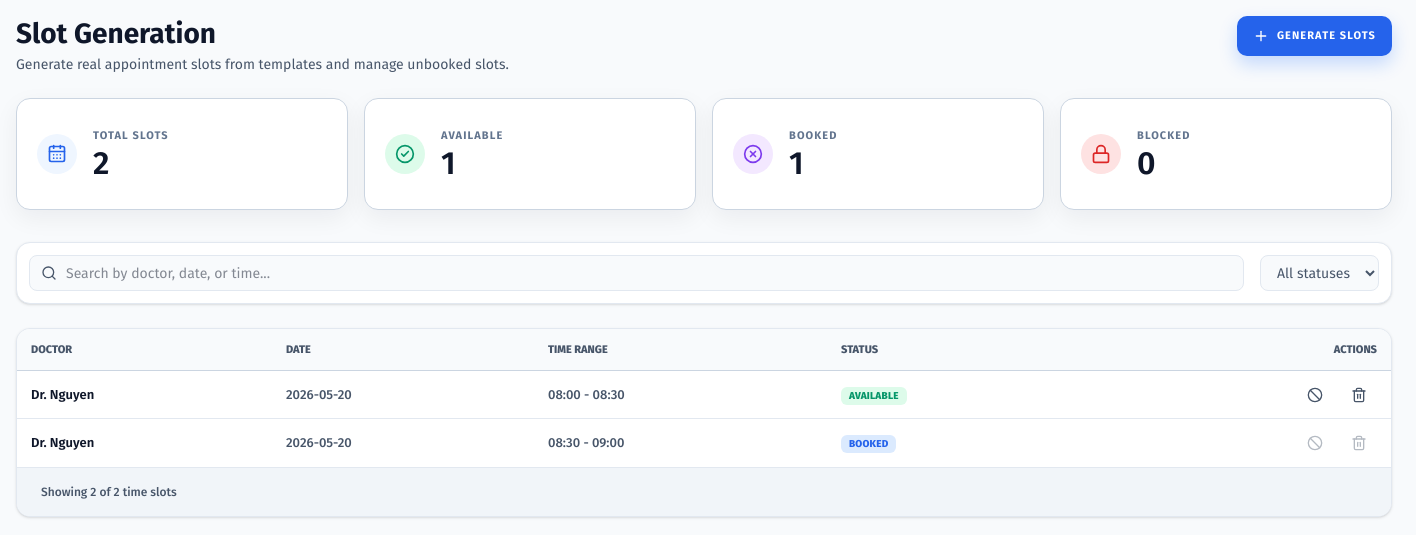
Scenario: AdminSlotsPage › filters slots by status and search text
Expected: the text "08:00" is shown, left=548, top=387, right=581, bottom=402
Select "Booked" in the dropdown named "Status" at coordinates (1320, 273), box left=1260, top=255, right=1379, bottom=291
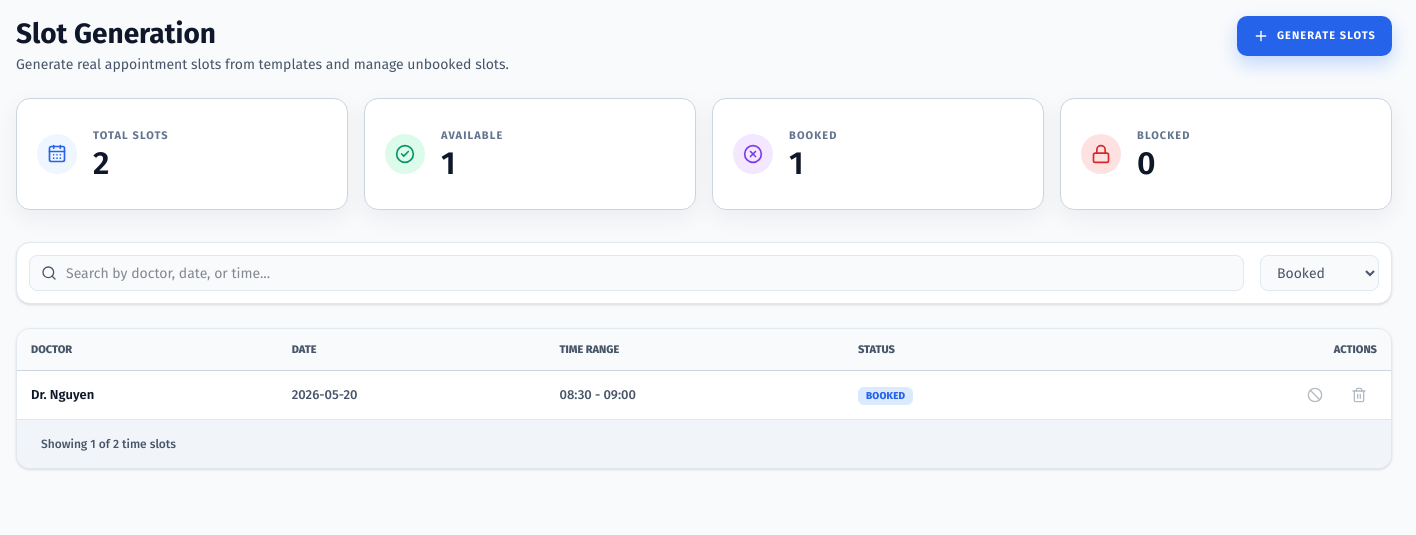
Expected: the text "08:30" is shown, left=560, top=387, right=592, bottom=402
Expected: the text "08:00" is gone
Type "missing" into the search field named "search time slots" at coordinates (636, 273), box left=29, top=255, right=1244, bottom=291
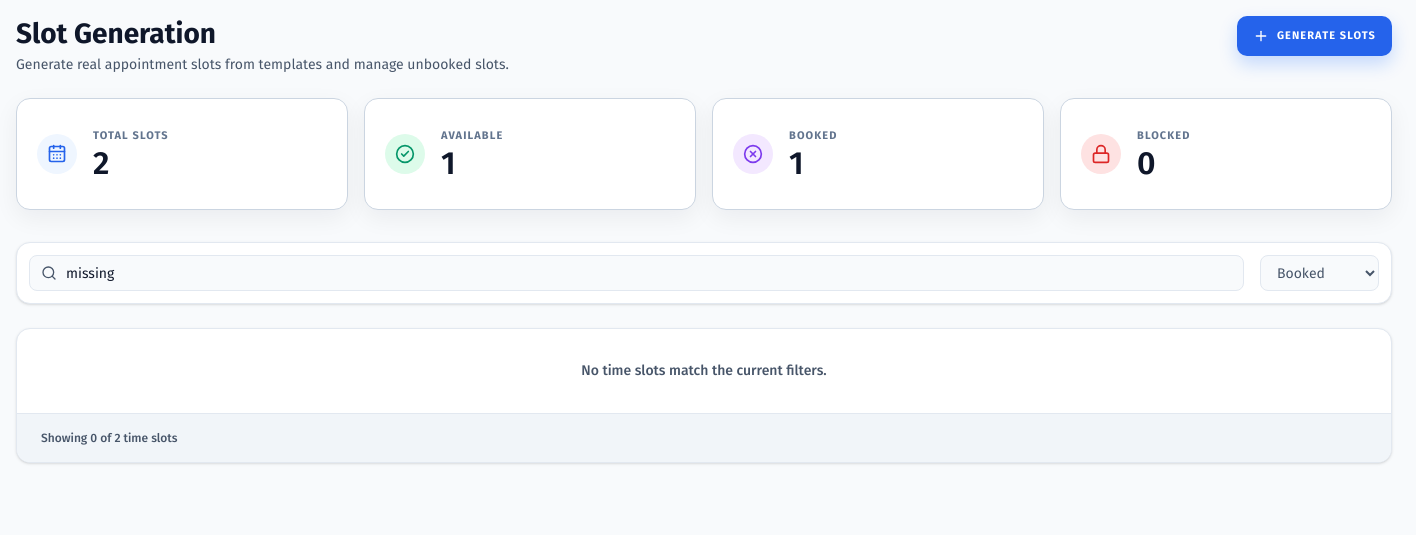
Expected: the text "No time slots match the current filters." is shown, left=581, top=362, right=827, bottom=379
